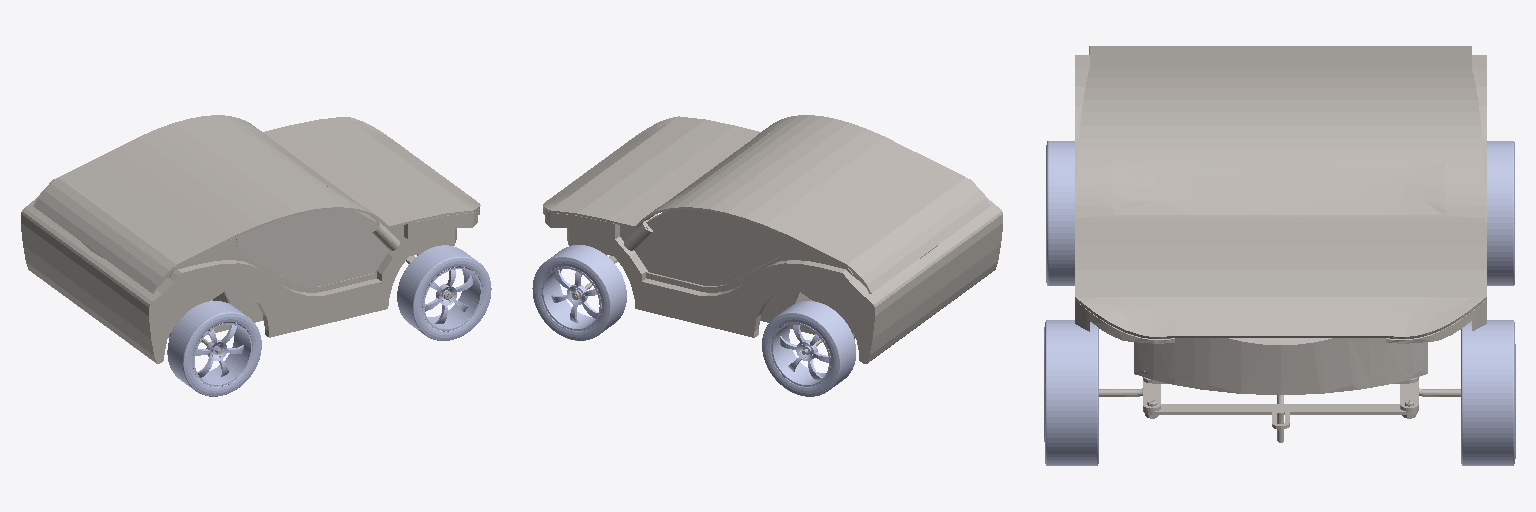
The robot description file, URDF, robot "car_v2":
<?xml version="1.0" encoding="utf-8"?>
<!-- This URDF was automatically created by SolidWorks to URDF Exporter! Originally created by Stephen Brawner (brawner@gmail.com) 
     Commit Version: 1.6.0-4-g7f85cfe  Build Version: 1.6.7995.38578
     For more information, please see http://wiki.ros.org/sw_urdf_exporter -->
<robot
  name="car_v2">
 <link name="base_footprint"/>

  <joint name="base_joint" type="fixed">
    <parent link="base_footprint"/>
    <child link="base_link"/>
    <origin xyz="0.0 0.0 0.010" rpy="0 0 0"/>
  </joint>
  
  <link
    name="base_link">
    <inertial>
      <origin
        xyz="0.067439 -0.00024698 0.18376"
        rpy="0 0 0" />
      <mass
        value="10" />
      <inertia
        ixx="0.54922"
        ixy="-0.0015061"
        ixz="0.10934"
        iyy="1.3975"
        iyz="-7.5815E-05"
        izz="1.8198" />
    </inertial>
    <visual>
      <origin
        xyz="0 0 0"
        rpy="0 0 0" />
      <geometry>
        <mesh
          filename="package://car_v2/meshes/base_link.STL" />
      </geometry>
      <material
        name="">
        <color
          rgba="0.77647 0.75686 0.73725 1" />
      </material>
    </visual>
    <collision>
      <origin
        xyz="0 0 0"
        rpy="0 0 0" />
      <geometry>
        <mesh
          filename="package://car_v2/meshes/base_link.STL" />
      </geometry>
    </collision>
  </link>
  <link
    name="BL_link">
    <inertial>
      <origin
        xyz="1.191E-09 -0.0071855 1.2104E-09"
        rpy="0 0 0" />
      <mass
        value="0.22002" />
      <inertia
        ixx="0.00080995"
        ixy="-4.7882E-13"
        ixz="7.5208E-12"
        iyy="0.0013726"
        iyz="-1.2389E-13"
        izz="0.00080995" />
    </inertial>
    <visual>
      <origin
        xyz="0 0 0"
        rpy="0 0 0" />
      <geometry>
        <mesh
          filename="package://car_v2/meshes/BL_link.STL" />
      </geometry>
      <material
        name="">
        <color
          rgba="0.79216 0.81961 0.93333 1" />
      </material>
    </visual>
    <collision>
      <origin
        xyz="0 0 0"
        rpy="0 0 0" />
      <geometry>
        <mesh
          filename="package://car_v2/meshes/BL_link.STL" />
      </geometry>
    </collision>
  </link>
  <joint
    name="BL_joint"
    type="continuous">
    <origin
      xyz="-0.19033 0.293 0.007"
      rpy="0 0 0" />
    <parent
      link="base_link" />
    <child
      link="BL_link" />
    <axis
      xyz="0 1 0" />
    <limit
      lower="0"
      upper="0"
      effort="50"
      velocity="50" />
    <dynamics
      damping="0.1" />
  </joint>
  <link
    name="BR_link">
    <inertial>
      <origin
        xyz="1.6741E-09 0.0071855 2.8426E-10"
        rpy="0 0 0" />
      <mass
        value="0.22002" />
      <inertia
        ixx="0.00080995"
        ixy="3.7557E-13"
        ixz="4.276E-12"
        iyy="0.0013726"
        iyz="3.2182E-13"
        izz="0.00080995" />
    </inertial>
    <visual>
      <origin
        xyz="0 0 0"
        rpy="0 0 0" />
      <geometry>
        <mesh
          filename="package://car_v2/meshes/BR_link.STL" />
      </geometry>
      <material
        name="">
        <color
          rgba="0.79216 0.81961 0.93333 1" />
      </material>
    </visual>
    <collision>
      <origin
        xyz="0 0 0"
        rpy="0 0 0" />
      <geometry>
        <mesh
          filename="package://car_v2/meshes/BR_link.STL" />
      </geometry>
    </collision>
  </link>
  <joint
    name="BR_joint"
    type="continuous">
    <origin
      xyz="-0.19033 -0.293 0.007"
      rpy="0 0 0" />
    <parent
      link="base_link" />
    <child
      link="BR_link" />
    <axis
      xyz="0 1 0" />
    <limit
      lower="0"
      upper="0"
      effort="50"
      velocity="50" />
    <dynamics
      damping="0.1" />
  </joint>
  <link
    name="FL_link">
    <inertial>
      <origin
        xyz="3.0764E-06 -0.0071855 1.653E-09"
        rpy="0 0 0" />
      <mass
        value="0.22002" />
      <inertia
        ixx="0.00080995"
        ixy="-2.4087E-07"
        ixz="5.0482E-12"
        iyy="0.0013726"
        iyz="-3.5251E-13"
        izz="0.00080995" />
    </inertial>
    <visual>
      <origin
        xyz="0 0 0"
        rpy="0 0 0" />
      <geometry>
        <mesh
          filename="package://car_v2/meshes/FL_link.STL" />
      </geometry>
      <material
        name="">
        <color
          rgba="0.79216 0.81961 0.93333 1" />
      </material>
    </visual>
    <collision>
      <origin
        xyz="0 0 0"
        rpy="0 0 0" />
      <geometry>
        <mesh
          filename="package://car_v2/meshes/FL_link.STL" />
      </geometry>
    </collision>
  </link>
  <joint
    name="FL_joint"
    type="continuous">
    <origin
      xyz="0.38721 0.293 0.0070019"
      rpy="0 0 0" />
    <parent
      link="base_link" />
    <child
      link="FL_link" />
    <axis
      xyz="0 1 0" />
    <limit
      lower="0"
      upper="0"
      effort="50"
      velocity="50" />
  </joint>
  <link
    name="FR_link">
    <inertial>
      <origin
        xyz="-3.0776E-06 0.0071855 6.5395E-10"
        rpy="0 0 0" />
      <mass
        value="0.22002" />
      <inertia
        ixx="0.00080995"
        ixy="-2.4087E-07"
        ixz="-3.9807E-12"
        iyy="0.0013726"
        iyz="-7.3148E-14"
        izz="0.00080995" />
    </inertial>
    <visual>
      <origin
        xyz="0 0 0"
        rpy="0 0 0" />
      <geometry>
        <mesh
          filename="package://car_v2/meshes/FR_link.STL" />
      </geometry>
      <material
        name="">
        <color
          rgba="0.79216 0.81961 0.93333 1" />
      </material>
    </visual>
    <collision>
      <origin
        xyz="0 0 0"
        rpy="0 0 0" />
      <geometry>
        <mesh
          filename="package://car_v2/meshes/FR_link.STL" />
      </geometry>
    </collision>
  </link>
  <joint
    name="FR_joint"
    type="continuous">
    <origin
      xyz="0.38731 -0.295 0.0070019"
      rpy="0 0 0" />
    <parent
      link="base_link" />
    <child
      link="FR_link" />
    <axis
      xyz="0 1 0" />
    <limit
      lower="0"
      upper="0"
      effort="50"
      velocity="50" />
  </joint>

  <link name="base_scan">
  <inertial>
    <mass value="0.01"/>
    <origin xyz="0 0 0"/>
    <inertia ixx="1e-5" iyy="1e-5" izz="1e-5"
             ixy="0" ixz="0" iyz="0"/>
  </inertial>
</link>

   <joint name="base_scan_joint" type="fixed">
  <parent link="base_link"/>
  <child link="base_scan"/>
  <origin xyz="0.5 0 0.15" rpy="0 0 0"/>
</joint>



  <gazebo>
  <plugin name="skid_steer_drive_controller" filename="libgazebo_ros_skid_steer_drive.so">
    <updateRate>100.0</updateRate>
    <robotNamespace>/</robotNamespace>
    <leftFrontJoint>FL_joint</leftFrontJoint>
    <rightFrontJoint>FR_joint</rightFrontJoint>
    <leftRearJoint>BL_joint</leftRearJoint>
    <rightRearJoint>BR_joint</rightRearJoint>
    <wheelSeparation>0.4</wheelSeparation>
    <wheelDiameter>0.215</wheelDiameter>
    <robotBaseFrame>base_link</robotBaseFrame>
    <torque>20</torque>
    <topicName>cmd_vel</topicName>
    <broadcastTF>false</broadcastTF>
  </plugin>
</gazebo>

<!-- ================= IMU SENSOR (FIXED) ================= -->
  <gazebo reference="base_link">
    <sensor name="imu_sensor" type="imu">
      <always_on>true</always_on>
      <update_rate>100</update_rate>
      <visualize>true</visualize>
      

      <!-- FIX: correct plugin for Gazebo IMU sensor -->
      <plugin name="imu_plugin"
              filename="libgazebo_ros_imu_sensor.so">
        <topicName>/imu</topicName>
        <frameName>base_link</frameName>
        <alwaysOn>true</alwaysOn>
        <updateRate>100.0</updateRate>
      </plugin>
    </sensor>
  </gazebo>

<gazebo reference="base_scan">
  <material>Gazebo/DarkGrey</material>

  <sensor type="ray" name="lds_lfcd_sensor">
    <pose>0 0 0 0 0 0</pose>
    <visualize>true</visualize>
    <update_rate>1800</update_rate>

    <ray>
      <scan>
        <horizontal>
          <samples>360</samples>
          <resolution>1</resolution>
          <min_angle>0.0</min_angle>
          <max_angle>6.283185</max_angle>
        </horizontal>
      </scan>

      <range>
        <min>0.08</min>
        <max>0.6</max>
        <resolution>0.01</resolution>
      </range>

      <noise>
        <type>gaussian</type>
        <mean>0.0</mean>
        <stddev>0.01</stddev>
      </noise>
    </ray>

    <plugin name="gazebo_ros_laser" filename="libgazebo_ros_laser.so">
      <topicName>/scan</topicName>
      <frameName>base_scan</frameName>
    </plugin>
  </sensor>
</gazebo>

</robot>

--- Facts derived from the render (not from the file) ---
The picture shows the robot from 3 angles, left to right: view 1: azimuth 30°, elevation 25°; view 2: azimuth 150°, elevation 25°; view 3: azimuth 270°, elevation 25°; orthographic projection.
Robot: car_v2 — 7 links, 6 joints (4 continuous, 2 fixed); root link base_footprint; default pose: every joint at zero.
Visible links, largest first — view 1: base_link, BR_link, FR_link; view 2: base_link, BL_link, FL_link; view 3: base_link, FR_link, FL_link, BR_link, BL_link.
Boxes of the visible links, x1,y1,x2,y2 form: base_link: (21, 115, 480, 363); BR_link: (167, 301, 261, 396); FR_link: (397, 245, 491, 340); base_link: (543, 115, 1002, 363); BL_link: (762, 301, 855, 396); FL_link: (532, 245, 626, 340); base_link: (1075, 46, 1486, 442); FR_link: (1044, 320, 1098, 465); FL_link: (1461, 320, 1515, 465); BR_link: (1046, 141, 1074, 285); BL_link: (1487, 141, 1514, 285).
Bounding box of the posed robot: 0.8863 × 0.6409 × 0.3706 m (x, y, z).
5 mesh visuals loaded from 5 distinct referenced files (5 binary STL).
